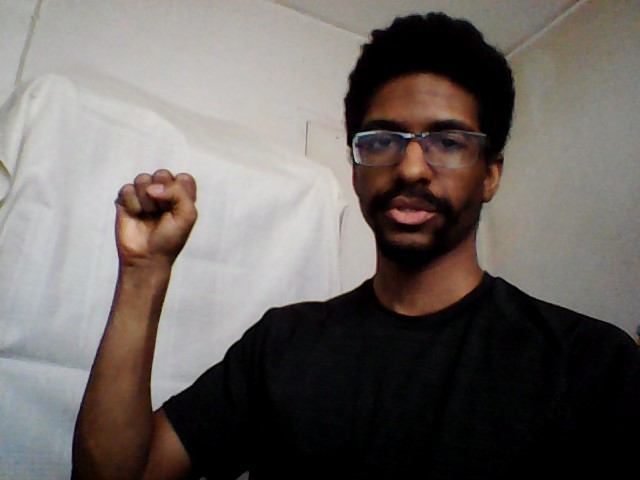s: (108, 164, 203, 264)
